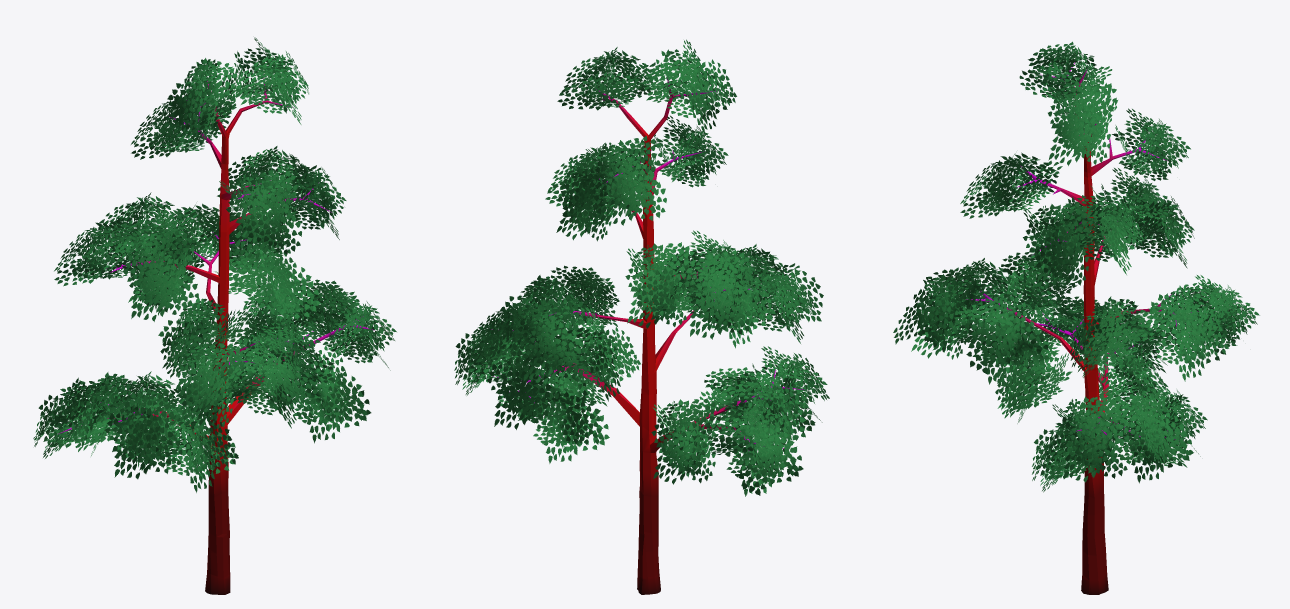
File: PT_Birch_Tree_03_green_cut.fbx
3 renders of one model, left to right at view 1: azimuth 30°, elevation 25°; view 2: azimuth 150°, elevation 25°; view 3: azimuth 270°, elevation 25°, orthographic. The views are drawn at different scales.
Visible parts, largest first — view 1: PT_Birch_Tree_03_green_cut; view 2: PT_Birch_Tree_03_green_cut; view 3: PT_Birch_Tree_03_green_cut.
Part boxes in pixels (x1=…): PT_Birch_Tree_03_green_cut: x1=33, y1=37, x2=396, y2=594; PT_Birch_Tree_03_green_cut: x1=454, y1=39, x2=829, y2=594; PT_Birch_Tree_03_green_cut: x1=893, y1=41, x2=1259, y2=594.
Bounding box in the file's own units: 843 × 1215 × 792.
